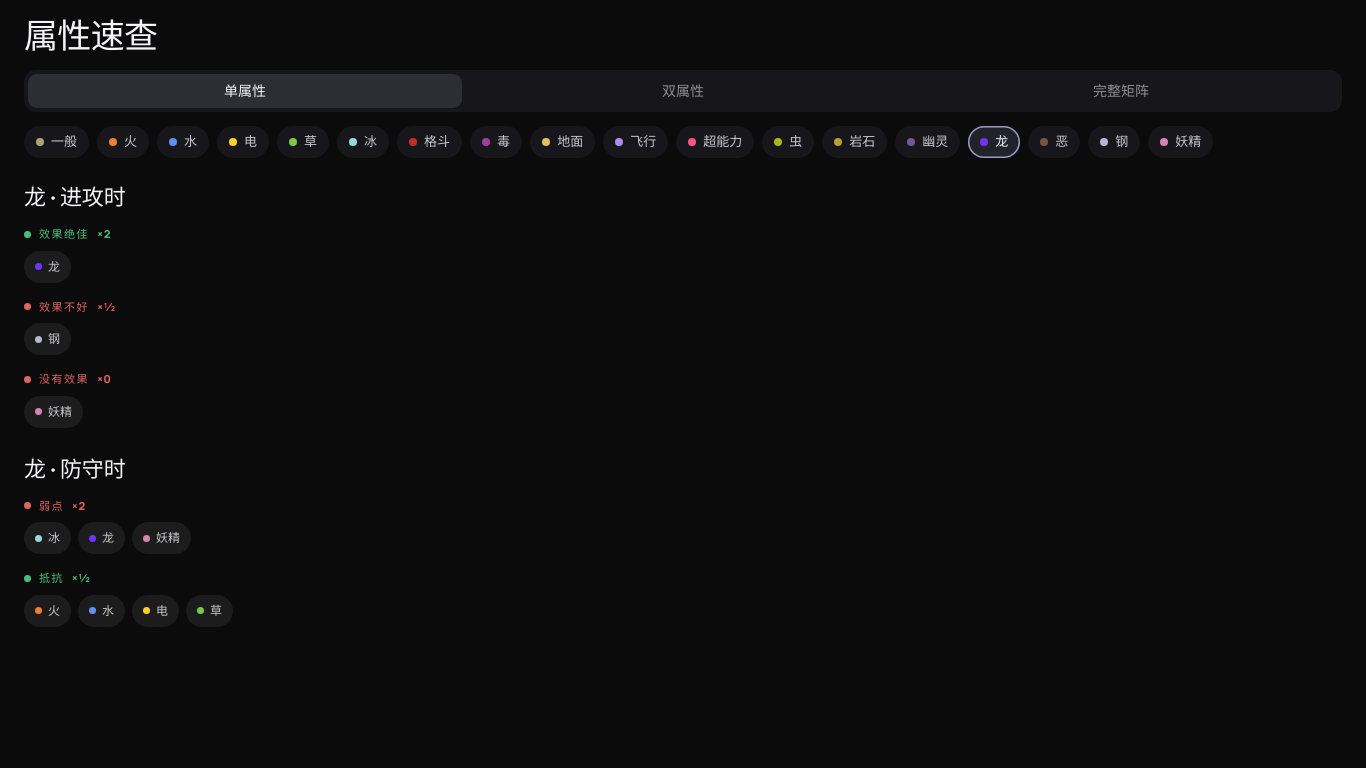
Test: TypeChartPage › opens on the single-type tab and lists only the shelves that carry a multiplier
Expected: the heading "属性速查" is shown, [24,12,157,58]
Expected: the heading "龙 · 进攻时" is shown, [24,182,125,212]
What coordinates should you click on to do the following:
click the button "一般"
I would click on:
 (56, 142)
Its box is [24,126,89,158].
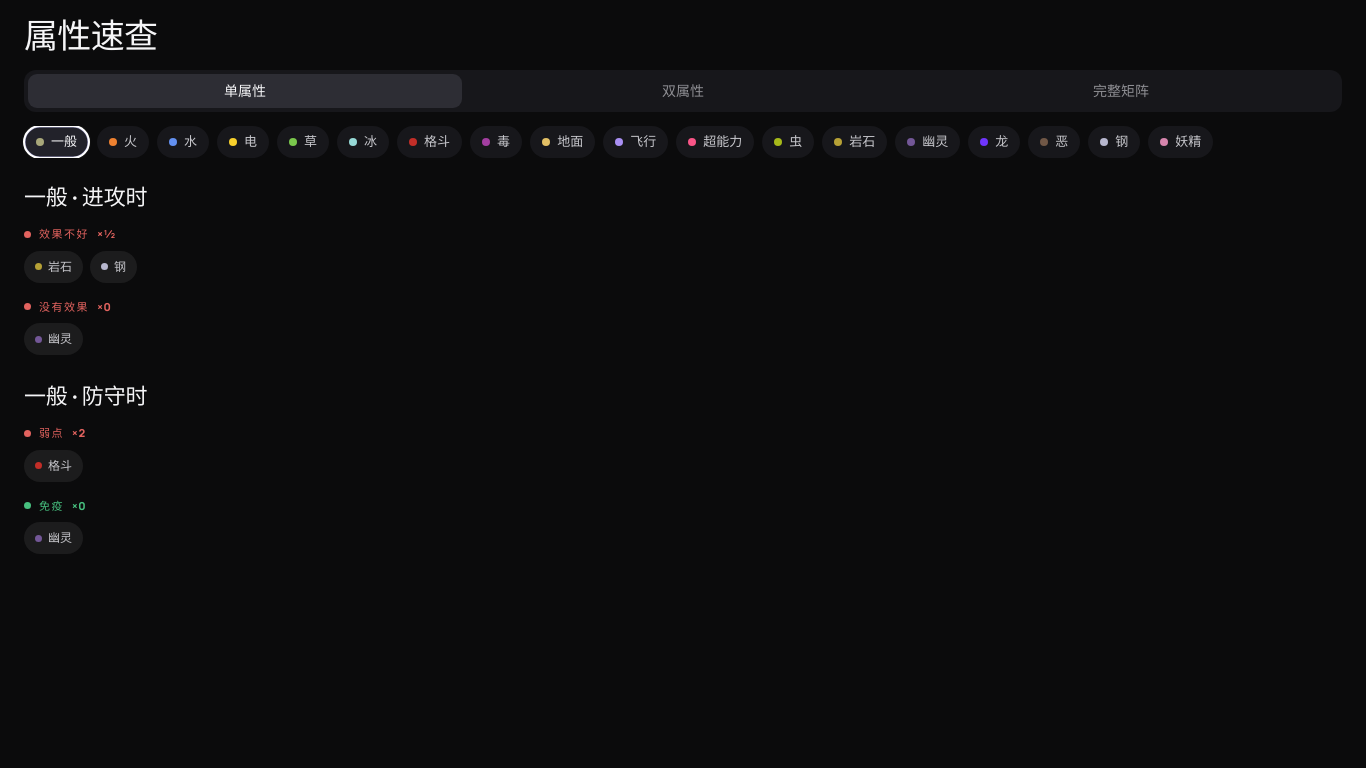
Result: the heading "一般 · 进攻时" is shown at [24,182,147,212]
Result: the text "效果绝佳" is gone
Result: the text "抵抗" is gone
